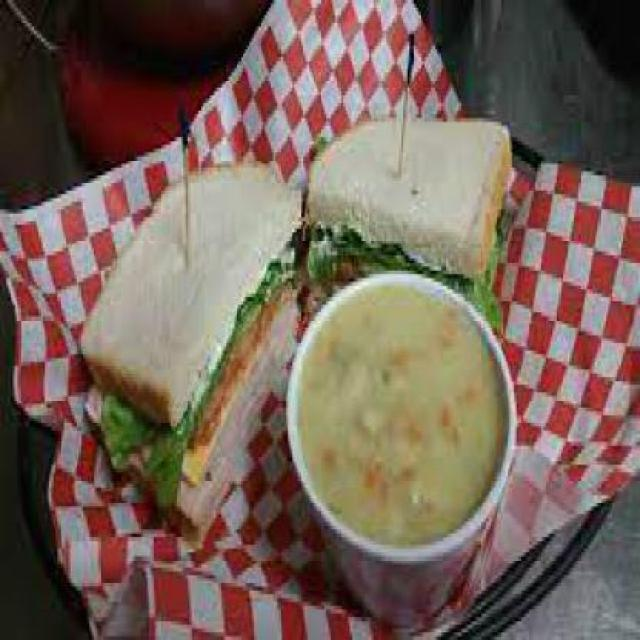clam chowder: (296, 282, 510, 580)
club sandwich: (70, 91, 502, 484)
